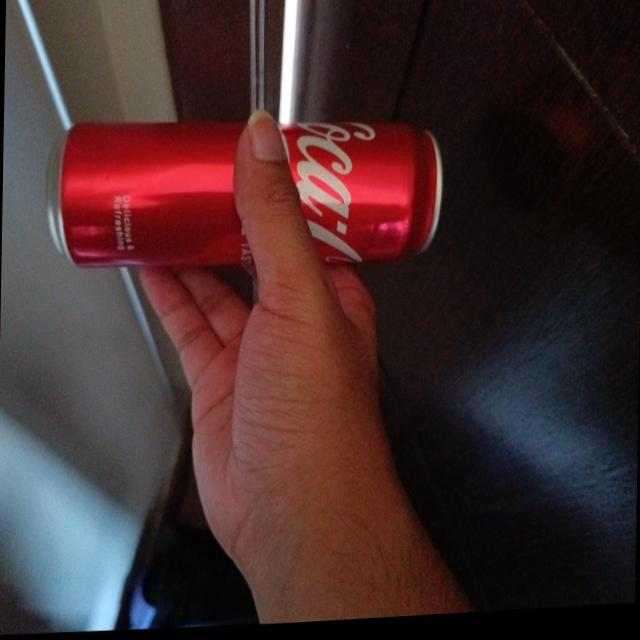coke: (49, 107, 442, 278)
